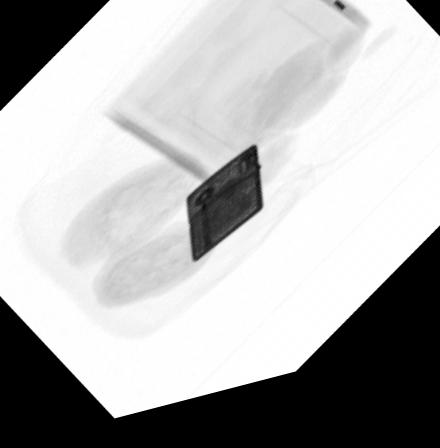Lighter: (181, 157, 264, 272)
